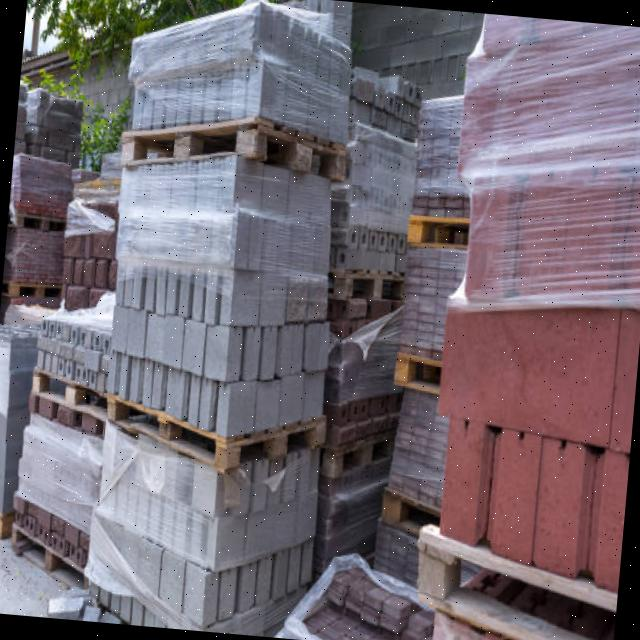Wooden-Pallets: (109, 391, 325, 472), (121, 119, 347, 182)
